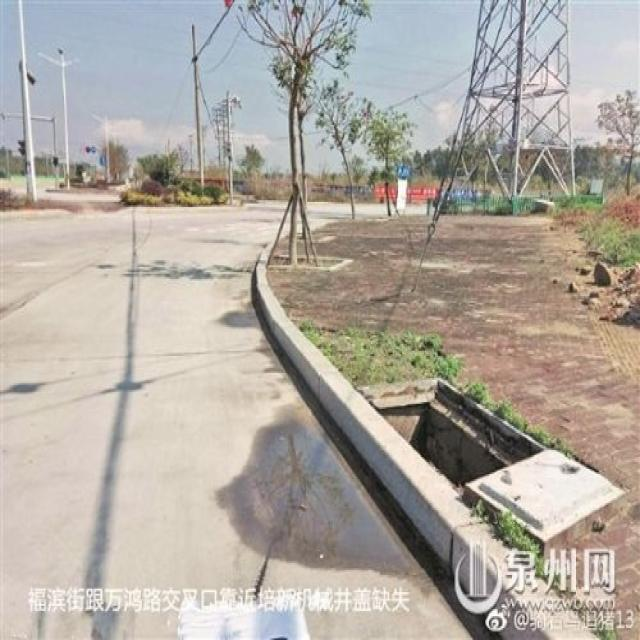manhole: (372, 380, 550, 492)
